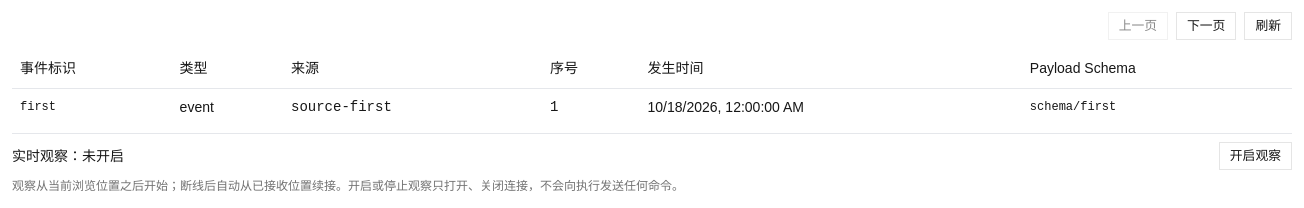
it: RunEventsPanel pagination boundaries › keeps previous-page navigation when a later page is empty
Expected: the text "first" is shown, [12, 88, 172, 124]
Click the button "下一页": (1206, 26) [1176, 12, 1236, 40]
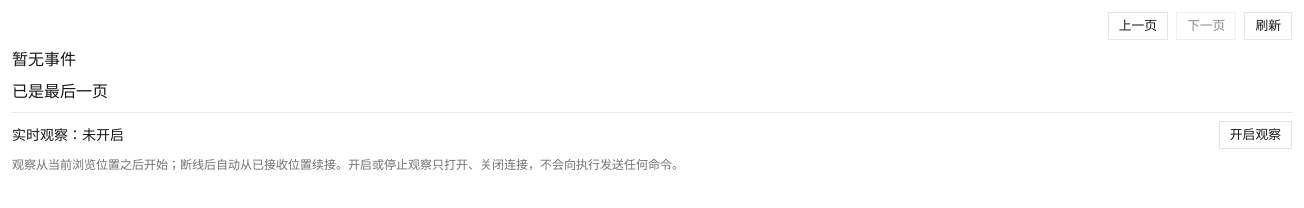
Now the text "暂无事件" is shown, box [12, 51, 76, 68]
Now the text "已是最后一页" is shown, box [12, 83, 108, 100]
Now the button "上一页" is enabled
Click the button "上一页": (1138, 26) [1108, 12, 1168, 40]
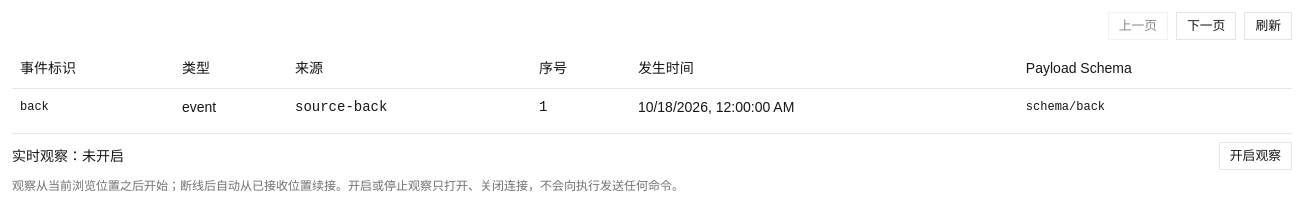
Now the text "back" is shown, box [12, 88, 174, 124]
